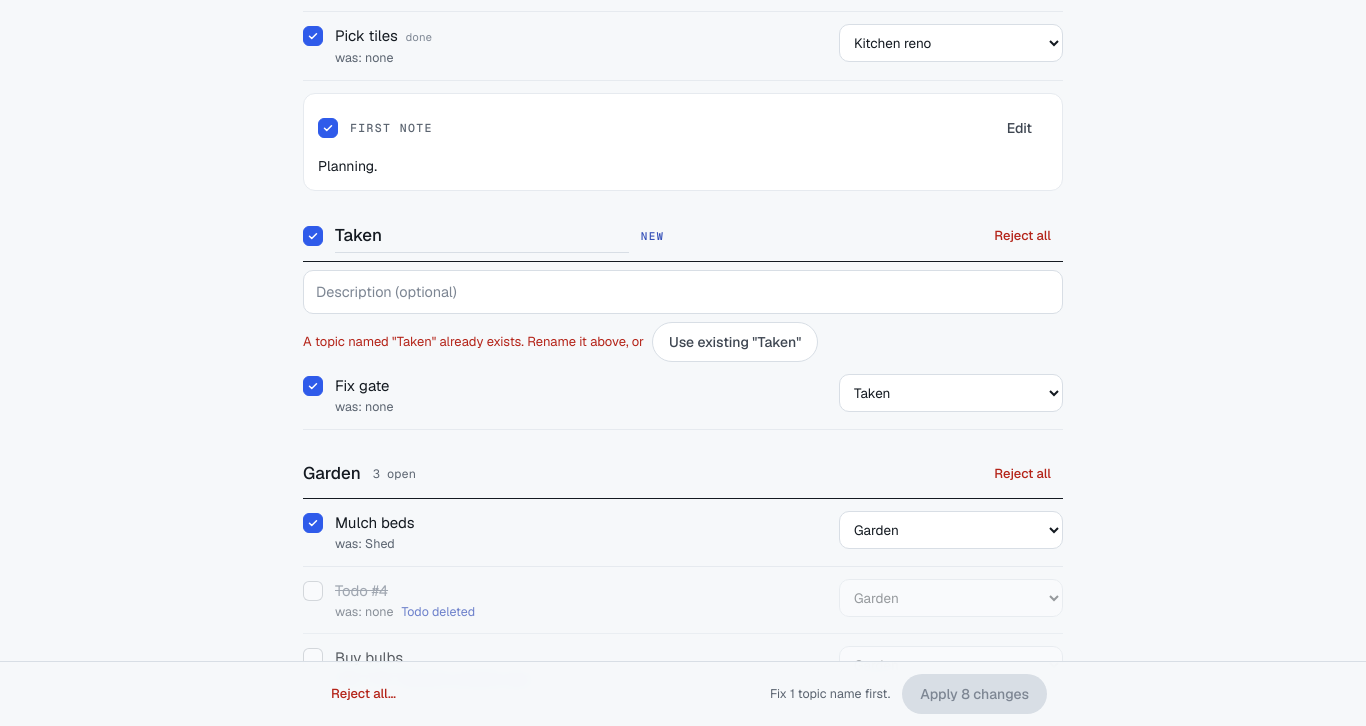
Scenario: ProposalReview › a 409 refetches, says it was resolved elsewhere and renders read-only
(page scrolled)
What coordinates should you click on to do the following:
click the button "Use existing \"Taken\""
I would click on:
 (735, 342)
Its box is [652,322,818,362].
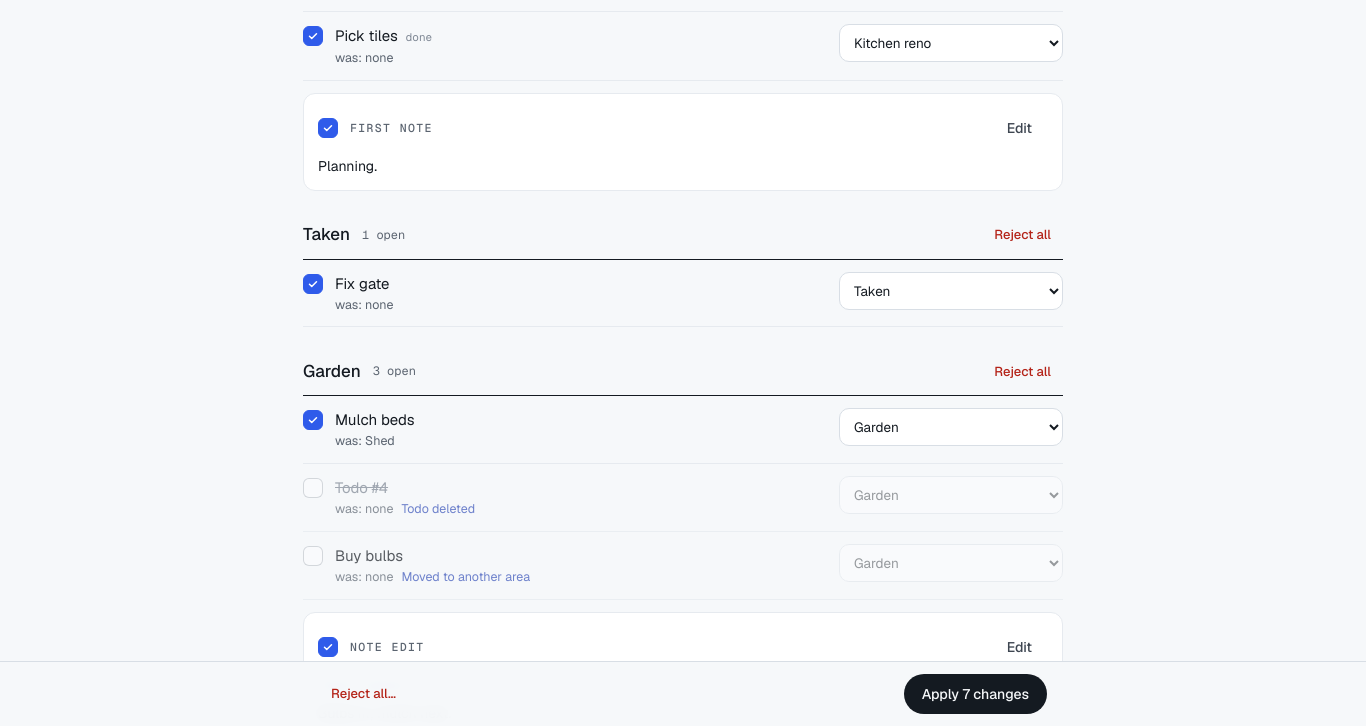
What coordinates should you click on to do the following:
click the button "Apply 7 changes"
I would click on:
 (975, 694)
Its box is [904,674,1047,714].
(page scrolled)
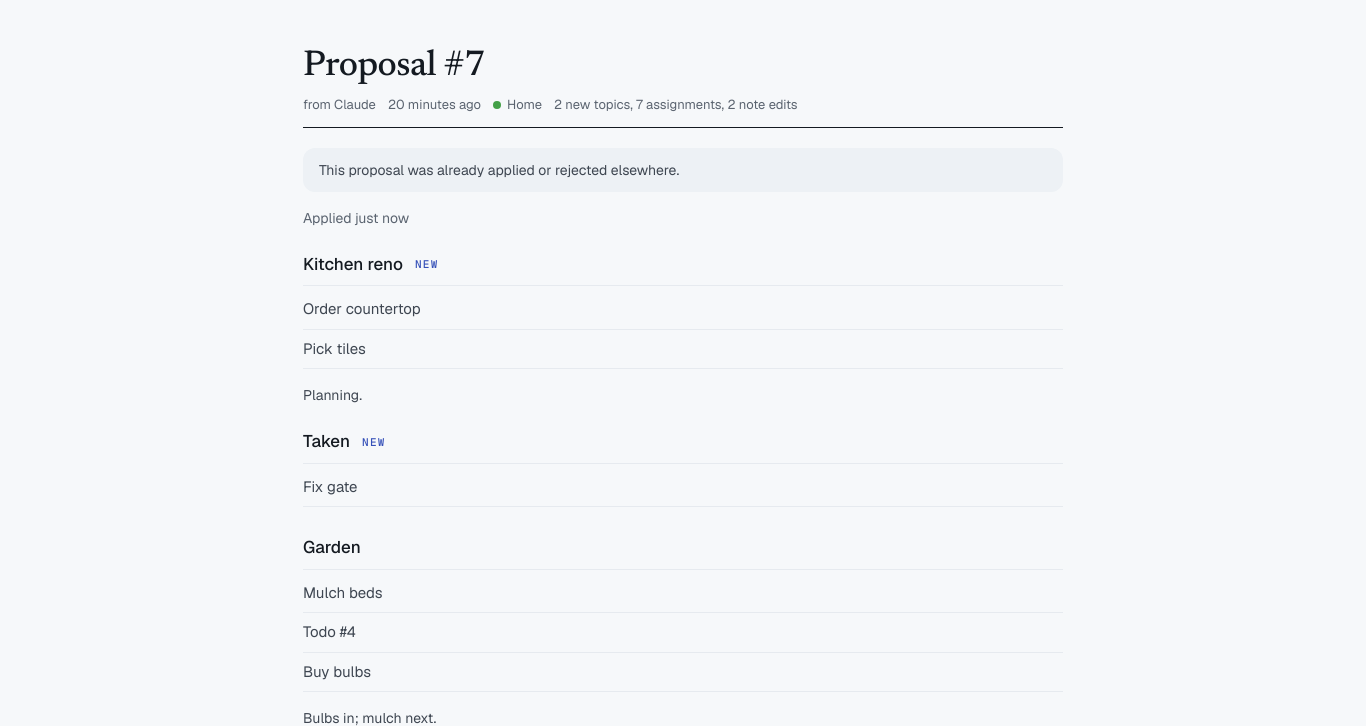
Now the text "This proposal was already applied or rejected elsewhere." is shown, box [303,148,1063,192]
Now the text "Applied just now" is shown, box [303,209,409,227]
Now the button "Apply" is gone
